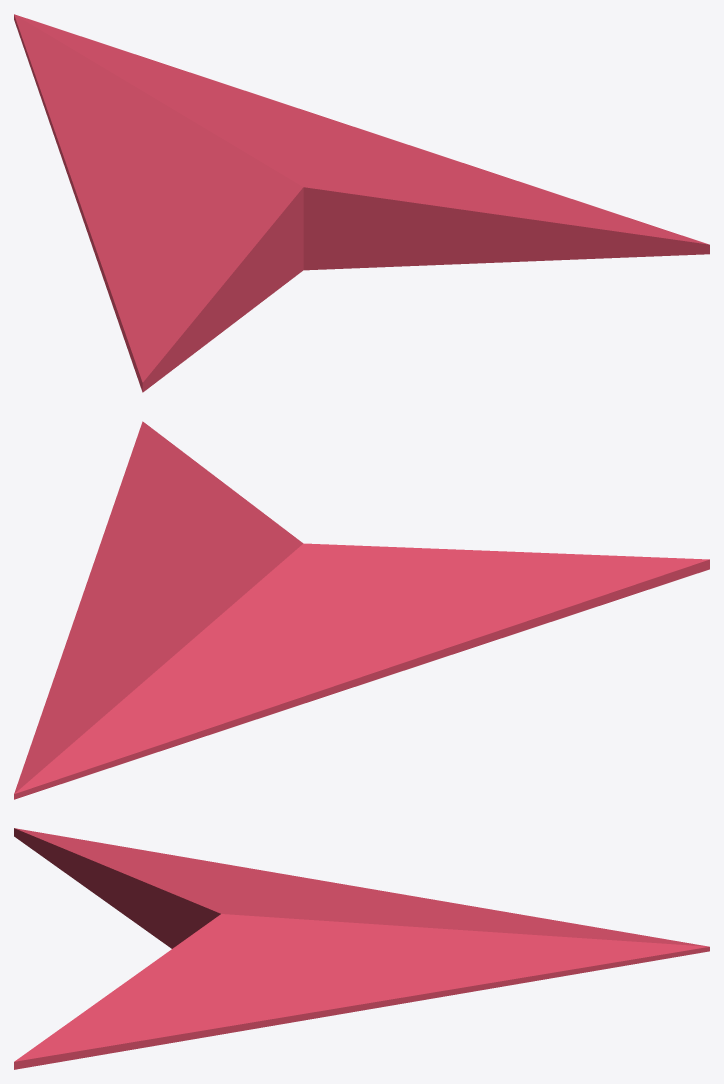
The model's file is Compass.fbx.
3 views of the same model, one above another, from view 1: azimuth 30°, elevation 25°; view 2: azimuth 150°, elevation 25°; view 3: azimuth 270°, elevation 25° (orthographic). The views are drawn at different scales.
Parts seen in each view (by area): view 1: pCube1; view 2: pCube1; view 3: pCube1.
Part boxes in pixels (<box>): pCube1: <box>14,14,709,392</box>; pCube1: <box>14,421,709,799</box>; pCube1: <box>14,828,709,1069</box>.
Bounding box in the file's own units: 8 × 1.12 × 10.07.
